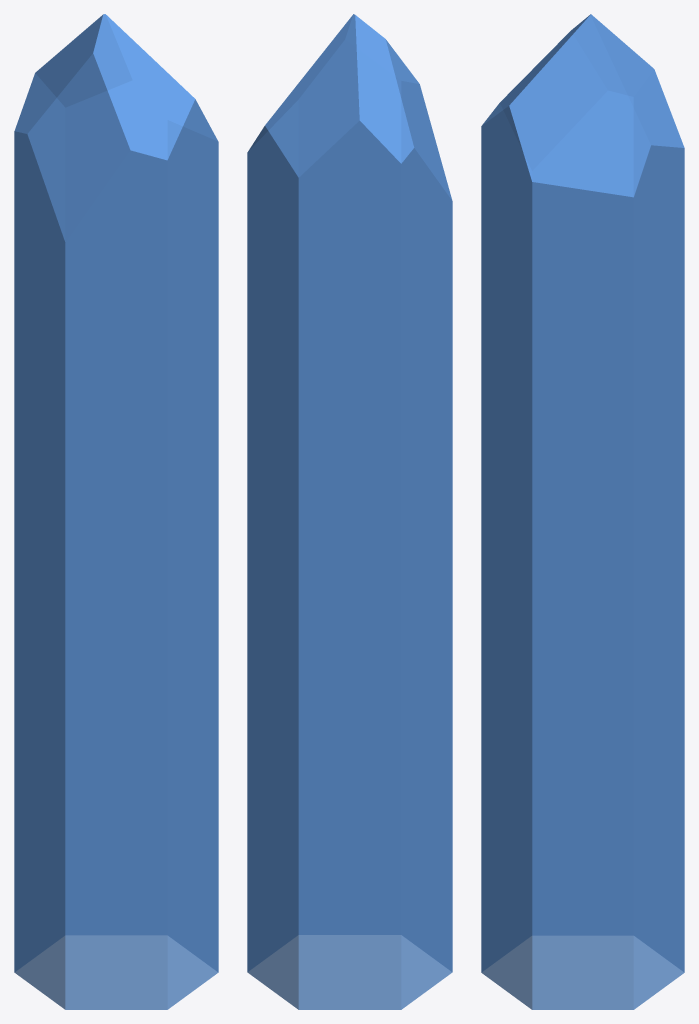
Rendered from Crystal_m_09 6.fbx.
The picture shows the model from 3 angles, left to right: view 1: azimuth 30°, elevation 25°; view 2: azimuth 150°, elevation 25°; view 3: azimuth 270°, elevation 25°; orthographic projection.
Visible parts, largest first — view 1: Crystal_m_09; view 2: Crystal_m_09; view 3: Crystal_m_09.
Boxes of the visible parts, <box> form: Crystal_m_09: <box>14,14,218,1009</box>; Crystal_m_09: <box>247,14,452,1009</box>; Crystal_m_09: <box>481,14,684,1009</box>.
Size of the model in its own units: 37.83 by 226 by 43.68.
